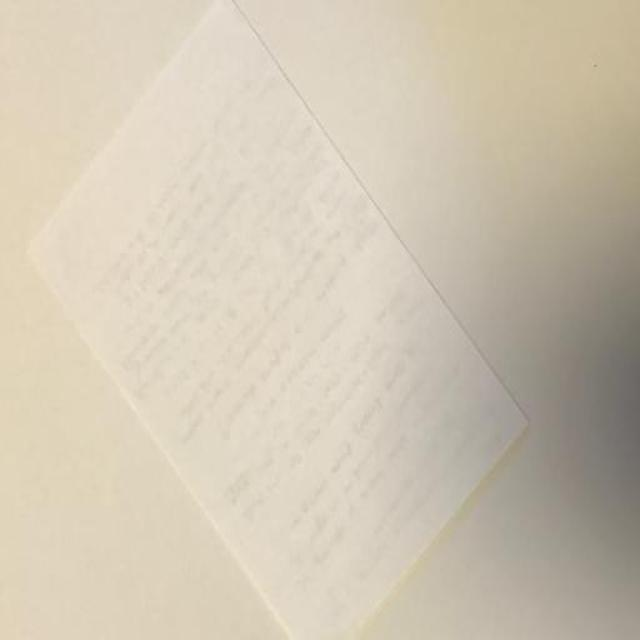paper: (26, 0, 530, 638)
